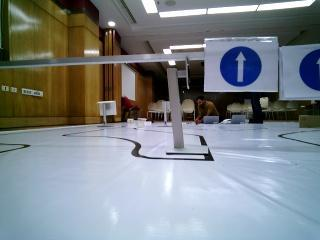straight: (205, 39, 281, 92), (279, 43, 320, 99)
